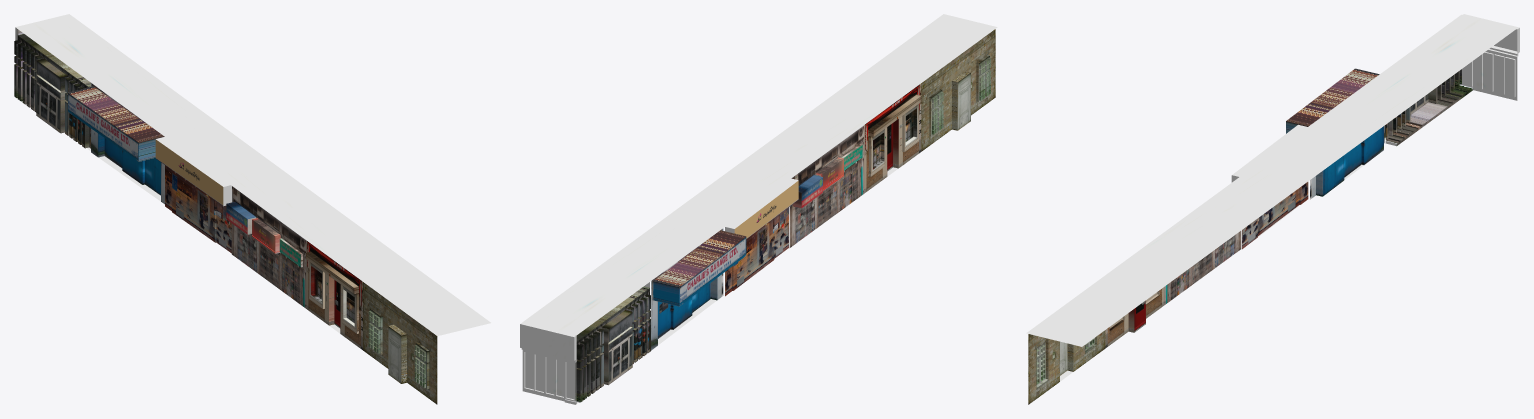
The model's file is ladoC.obj.
The picture shows the model from 3 angles, left to right: view 1: azimuth 30°, elevation 25°; view 2: azimuth 150°, elevation 25°; view 3: azimuth 330°, elevation 25°; orthographic projection. The views are drawn at different scales.
Visible parts, largest first — view 1: Plano.013_Plano.001, Plano.001_Plano.015, Plano.005_Plano.019, Plano.003_Plano.017, Plano.002_Plano.016, Plano.014_Plano.008, Plano.004_Plano.018; view 2: Plano.013_Plano.001, Plano.001_Plano.015, Plano.014_Plano.008, Plano.005_Plano.019, Plano.003_Plano.017, Plano.002_Plano.016, Plano.004_Plano.018; view 3: Plano.013_Plano.001, Plano.001_Plano.015, Plano.005_Plano.019, Plano.014_Plano.008, Plano.002_Plano.016, Plano.003_Plano.017, Plano.004_Plano.018.
Part boxes in pixels (x1=…): Plano.013_Plano.001: x1=15, y1=14, x2=490, y2=335; Plano.001_Plano.015: x1=68, y1=83, x2=164, y2=204; Plano.005_Plano.019: x1=363, y1=282, x2=437, y2=404; Plano.003_Plano.017: x1=226, y1=186, x2=305, y2=308; Plano.002_Plano.016: x1=155, y1=137, x2=231, y2=252; Plano.014_Plano.008: x1=14, y1=29, x2=90, y2=150; Plano.004_Plano.018: x1=306, y1=240, x2=362, y2=349; Plano.013_Plano.001: x1=520, y1=14, x2=997, y2=404; Plano.001_Plano.015: x1=651, y1=228, x2=746, y2=350; Plano.014_Plano.008: x1=564, y1=282, x2=650, y2=404; Plano.005_Plano.019: x1=921, y1=29, x2=995, y2=151; Plano.003_Plano.017: x1=789, y1=125, x2=863, y2=247; Plano.002_Plano.016: x1=725, y1=178, x2=798, y2=296; Plano.004_Plano.018: x1=864, y1=83, x2=921, y2=193; Plano.013_Plano.001: x1=1026, y1=14, x2=1519, y2=346; Plano.001_Plano.015: x1=1286, y1=68, x2=1384, y2=199; Plano.005_Plano.019: x1=1028, y1=330, x2=1105, y2=404; Plano.014_Plano.008: x1=1384, y1=69, x2=1473, y2=146; Plano.002_Plano.016: x1=1231, y1=124, x2=1308, y2=249; Plano.003_Plano.017: x1=1164, y1=231, x2=1241, y2=304; Plano.004_Plano.018: x1=1105, y1=287, x2=1164, y2=348.
Size of the model in its own units: 18.31 by 15.21 by 167.
7 materials, 7 textured.
